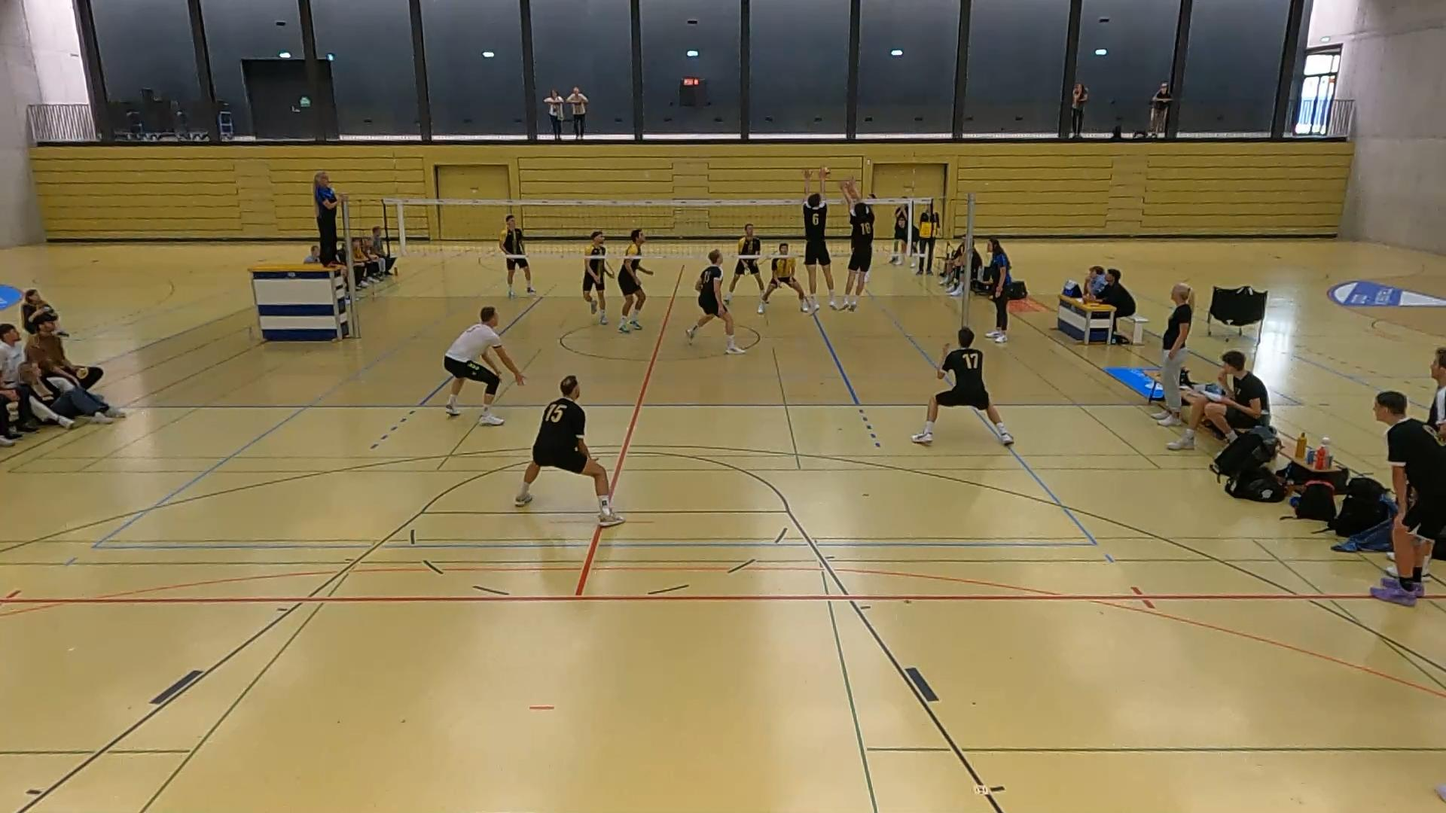Block: (828, 181, 877, 319), (798, 177, 845, 317)
Player: (514, 376, 624, 526), (912, 327, 1013, 445), (444, 306, 524, 425), (685, 250, 744, 354), (617, 229, 652, 333), (758, 242, 809, 313), (724, 224, 764, 303), (499, 215, 535, 297), (582, 230, 611, 324)
ball: (817, 164, 833, 182)
